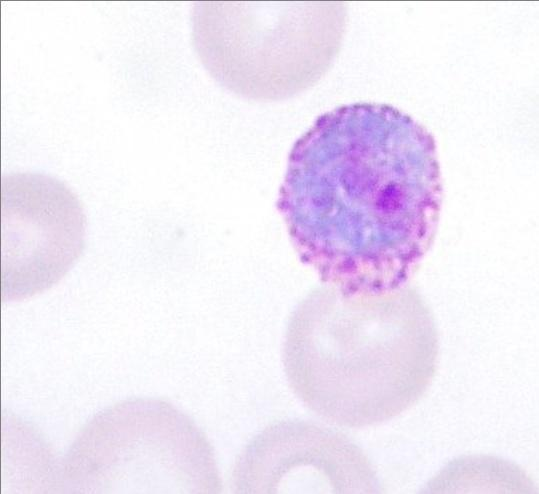Infected: (281, 101, 443, 296)
Uninfected: (282, 281, 439, 425)
